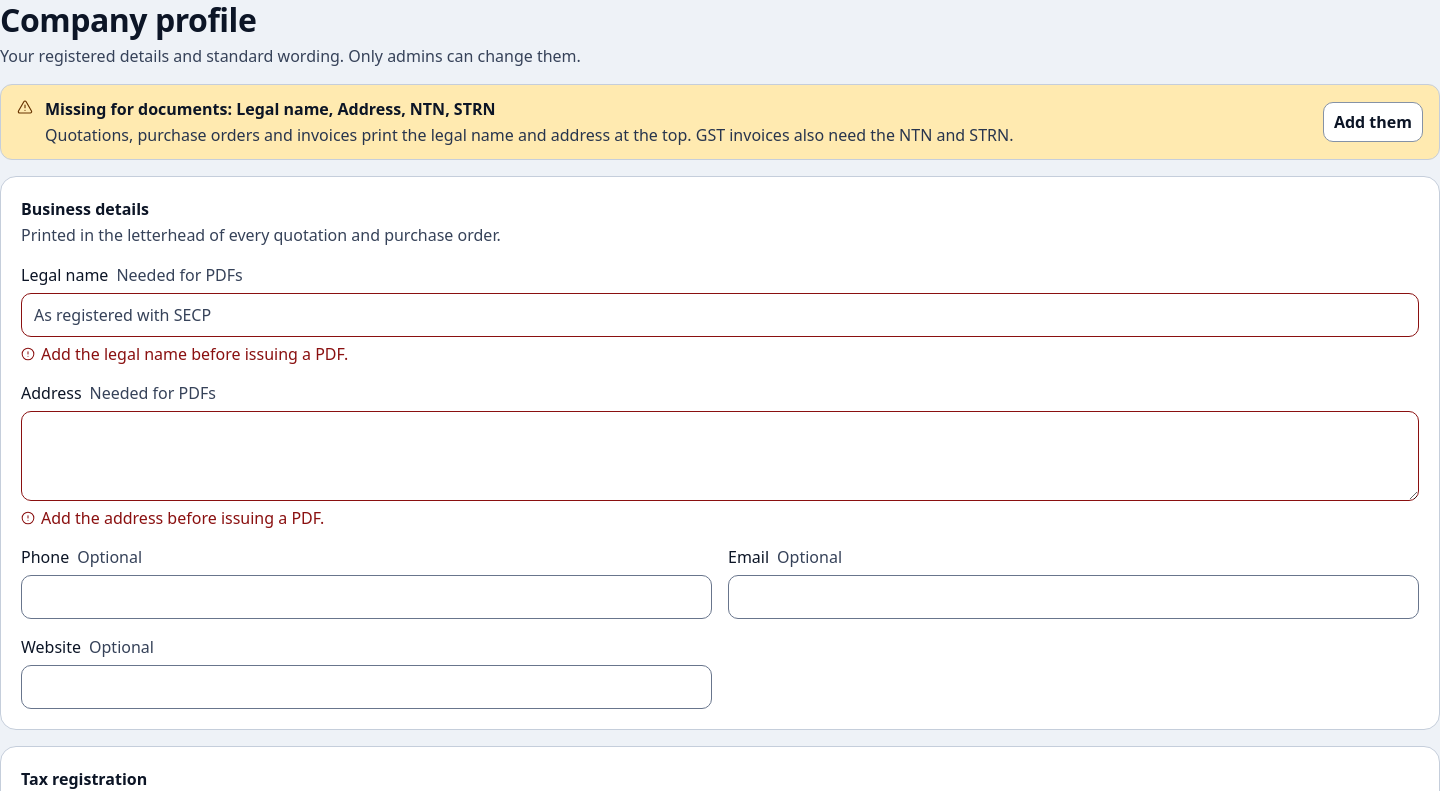
Scenario: Company profile screen › draws an empty legal name and address invalid with their own sentences, before any save
Expected: the text "Add the legal name before issuing a PDF." is shown, left=41, top=343, right=348, bottom=365
Expected: the text "Add the address before issuing a PDF." is shown, left=41, top=507, right=324, bottom=529
Type "Q-Tech" into the field labelled "Legal name" at {"x": 720, "y": 315}, box left=21, top=293, right=1419, bottom=337
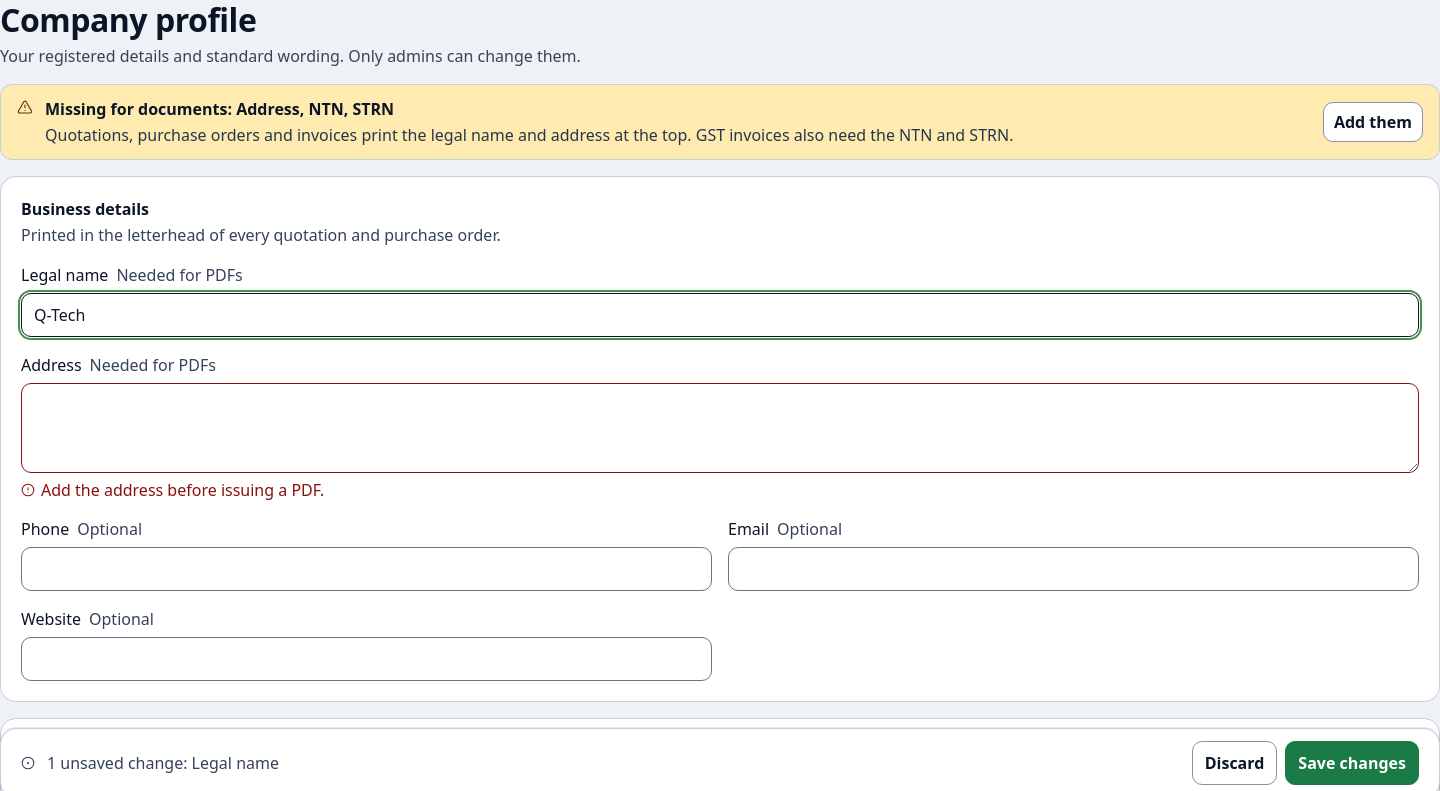
Now the text "Add the legal name before issuing a PDF." is gone
